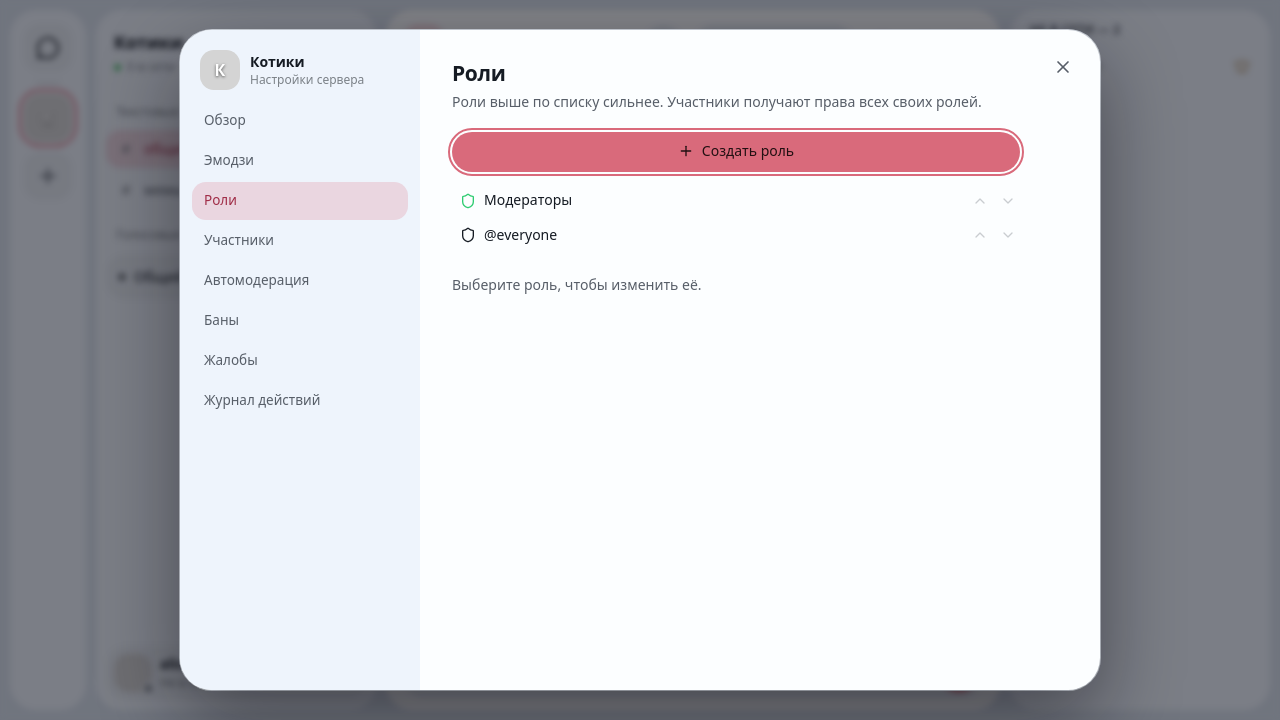
Test: server settings: roles › lists roles highest first and opens the editor
Expected: the list items read "Модераторы", "@everyone", in this order, 452,184 -> 1020,217; 452,219 -> 1020,251
Expected: the text "Выберите роль, чтобы изменить её." is shown, 452,275 -> 702,294
Click the button "@everyone": (521, 234) 452,219 -> 964,251
(page scrolled)
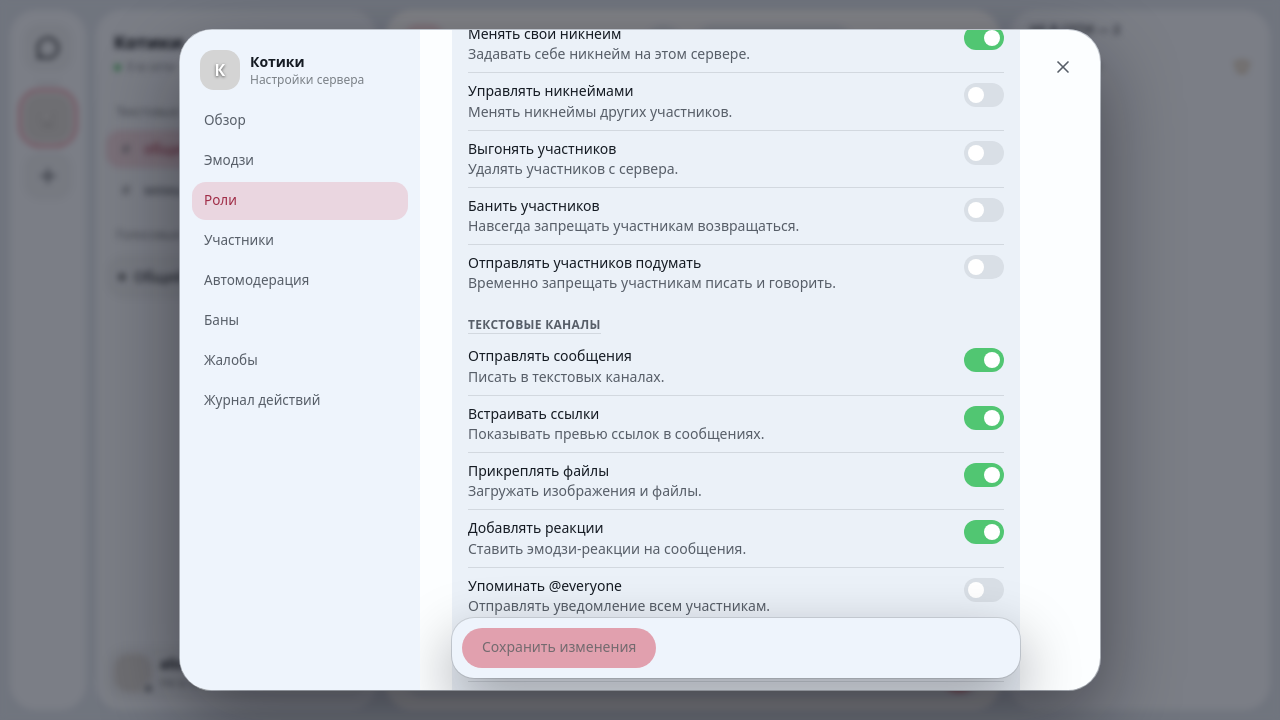
Expected: the list labelled "Название роли" is gone
Expected: the switch named "Отправлять сообщения" in the row of "Писать в текстовых каналах." is checked, 964,348 -> 1004,372
